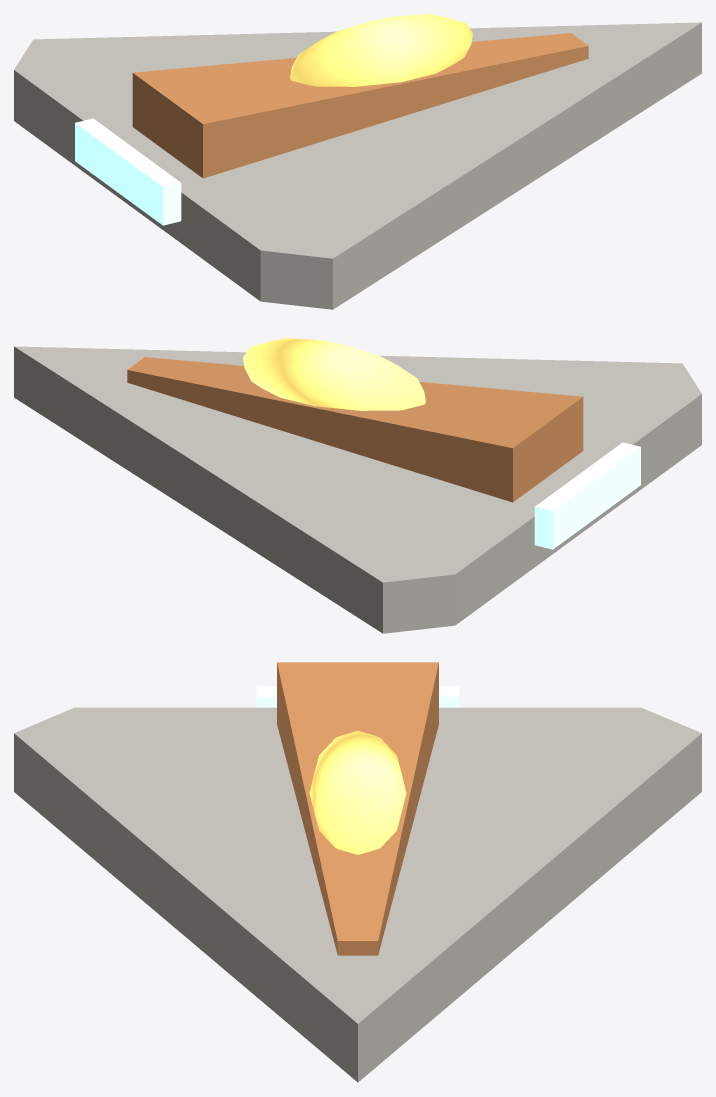
File: player_delta.glb
The picture shows the model from 3 angles, top to bottom: view 1: azimuth 30°, elevation 25°; view 2: azimuth 150°, elevation 25°; view 3: azimuth 270°, elevation 25°; orthographic projection. The views are drawn at different scales.
Parts seen in each view (by area): view 1: player_delta; view 2: player_delta; view 3: player_delta.
Boxes of the visible parts, left/top/right/bottom form: player_delta: left=14, top=14, right=701, bottom=309; player_delta: left=14, top=338, right=701, bottom=633; player_delta: left=14, top=662, right=701, bottom=1082.
Bounding box in the file's own units: 1.91 × 0.4 × 1.7.
